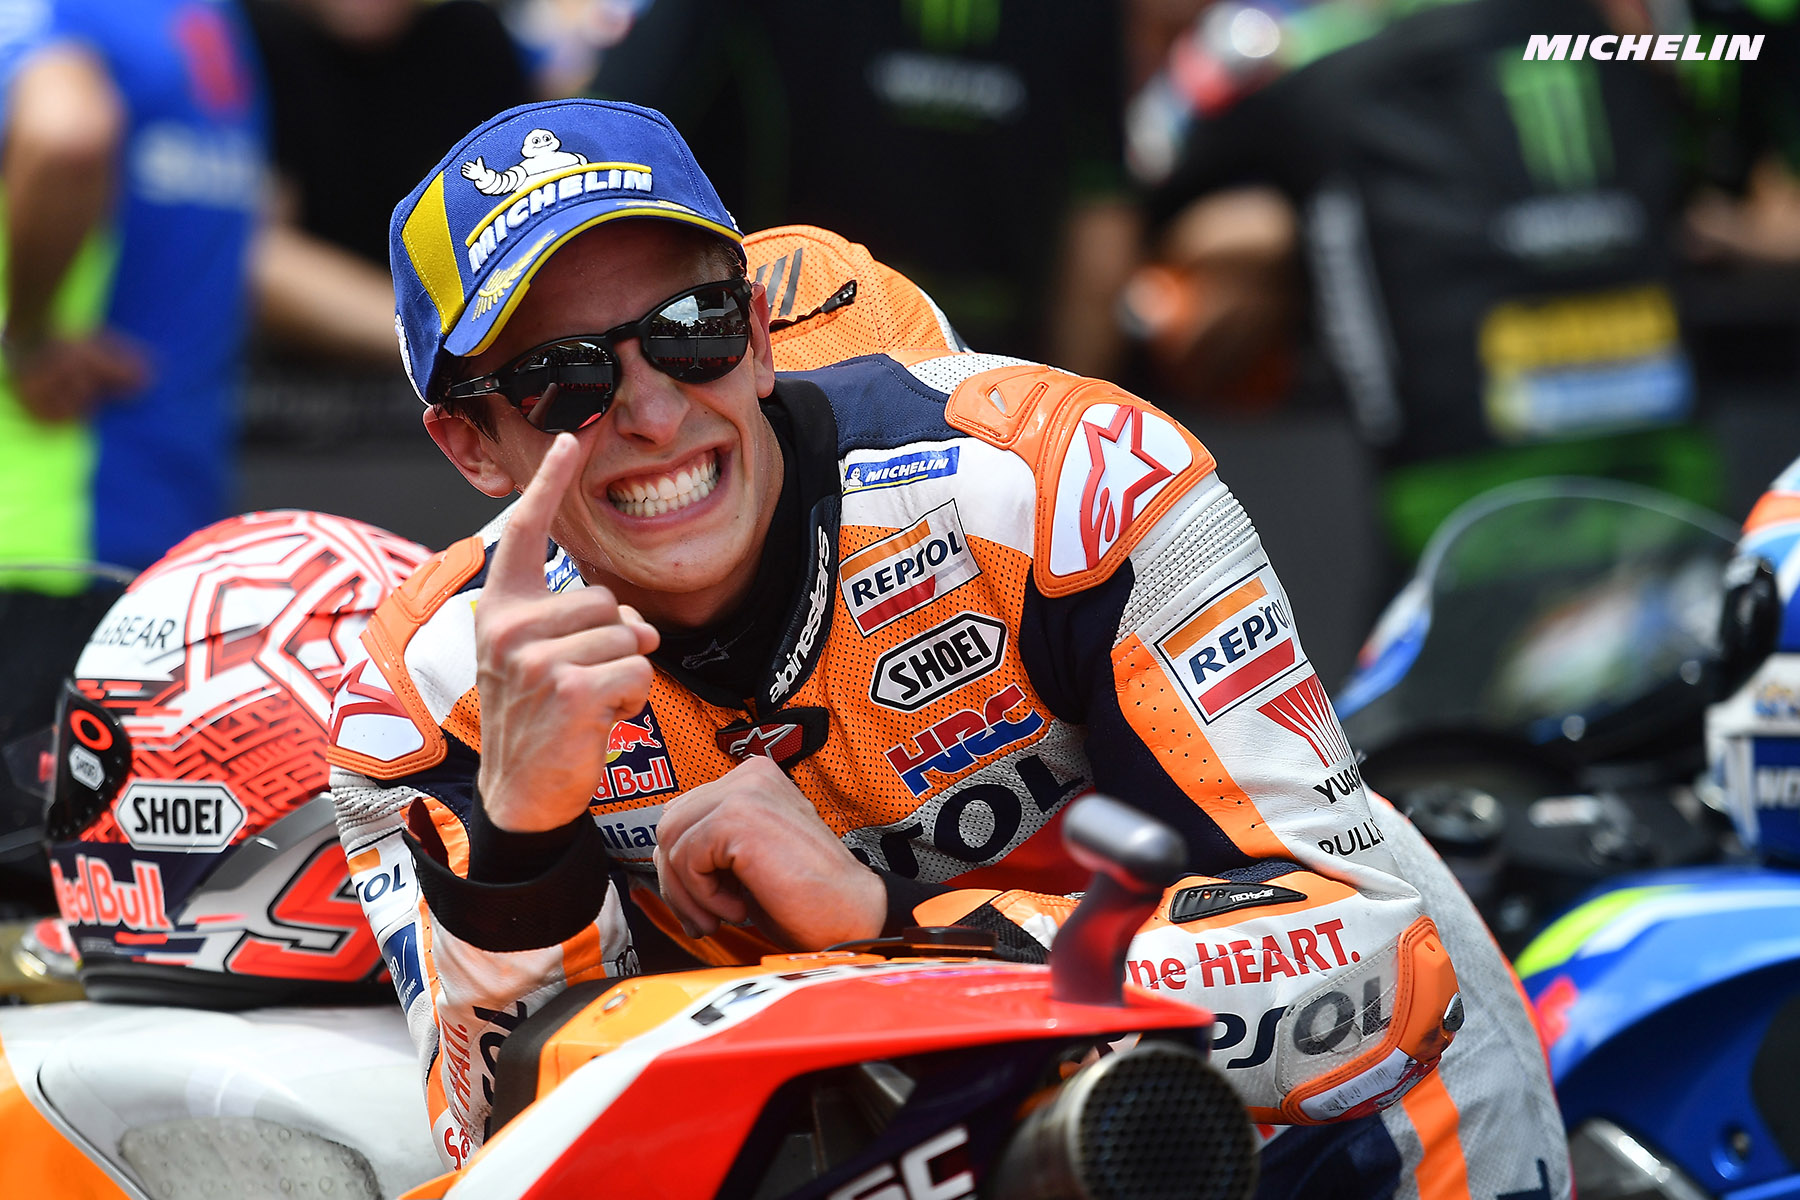helmet: (27, 495, 336, 986)
